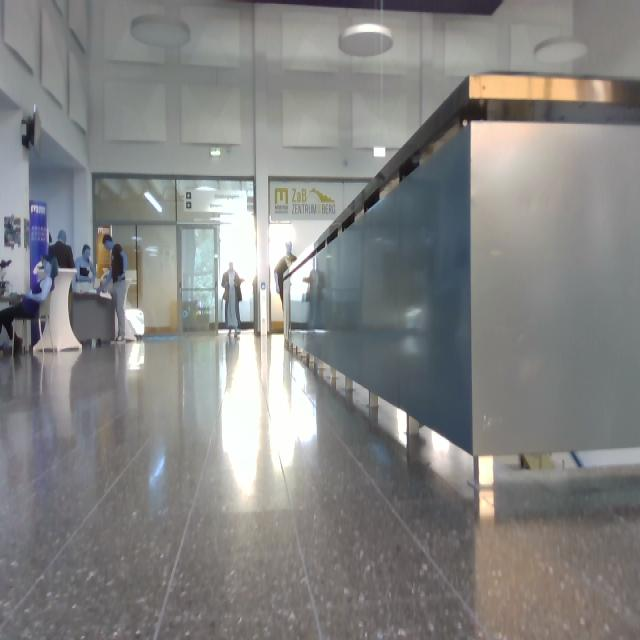light bulb: (132, 16, 190, 50), (340, 24, 393, 57), (534, 38, 588, 62), (475, 457, 494, 489), (146, 192, 162, 213)
person: (1, 254, 58, 353), (102, 248, 127, 341), (222, 264, 243, 336), (275, 242, 297, 304), (74, 245, 96, 290), (49, 230, 75, 268)
staircase: (279, 74, 640, 488)
table: (35, 269, 81, 353)
tiled floor: (1, 333, 640, 640)
